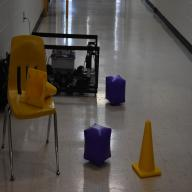cone: (132, 121, 161, 178), (25, 68, 56, 108)
cube: (84, 123, 111, 166), (105, 75, 126, 105)
